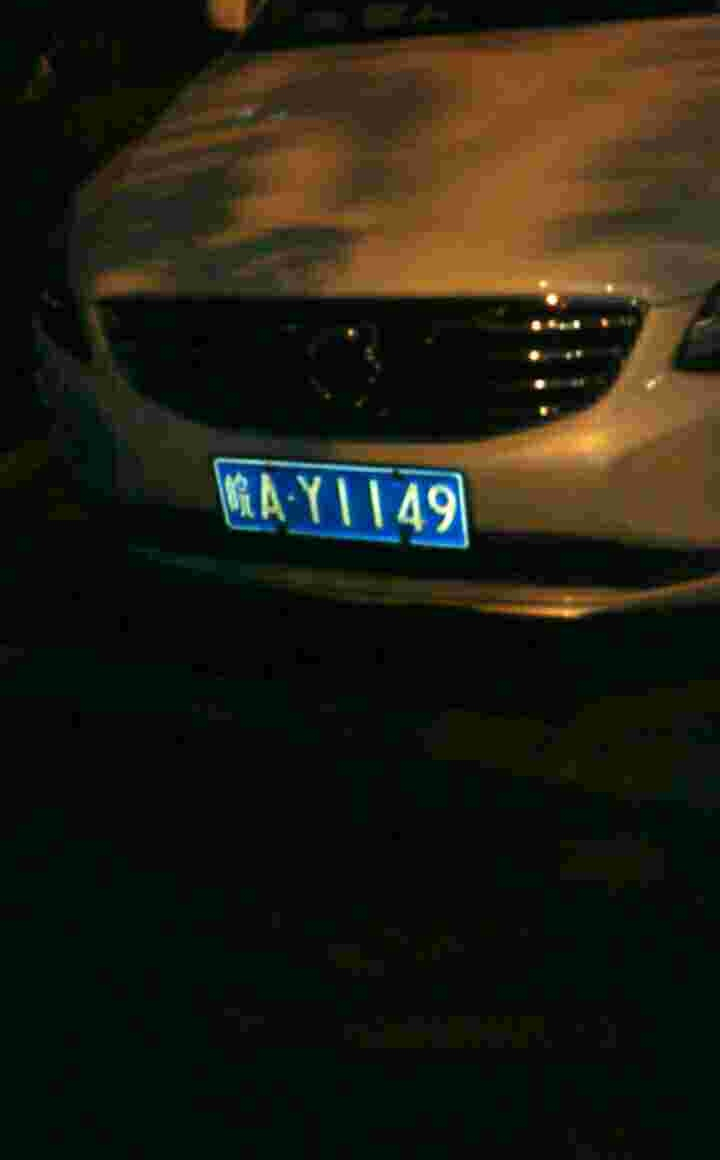license_plate: (212, 460, 489, 554)
